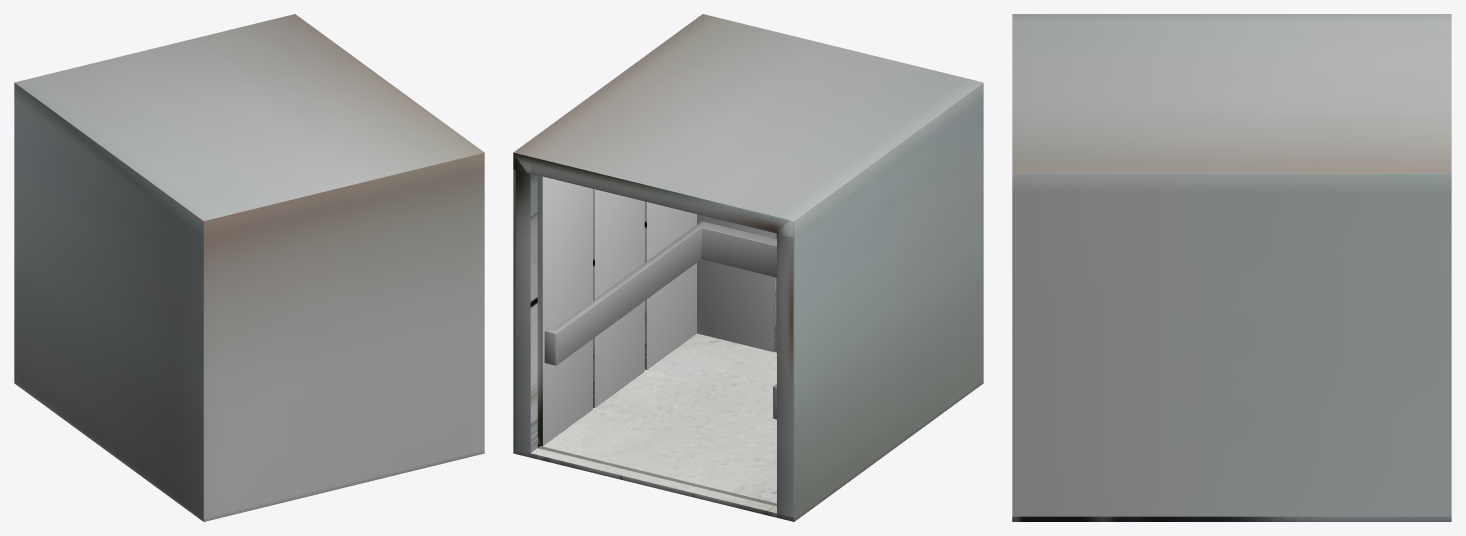
The model's file is ellevator.fbx.
3 views of the same model, side by side, from view 1: azimuth 30°, elevation 25°; view 2: azimuth 150°, elevation 25°; view 3: azimuth 270°, elevation 25° (orthographic). The views are drawn at different scales.
Visible parts, largest first — view 1: Cube; view 2: Cube; view 3: Cube.
Boxes of the visible parts, x1,y1,x2,y2 form: Cube: [14, 14, 484, 521]; Cube: [513, 14, 983, 521]; Cube: [1012, 14, 1451, 521].
Bounding box in the file's own units: 436 × 446 × 509.
Materials: 3 (2 with a texture image).
